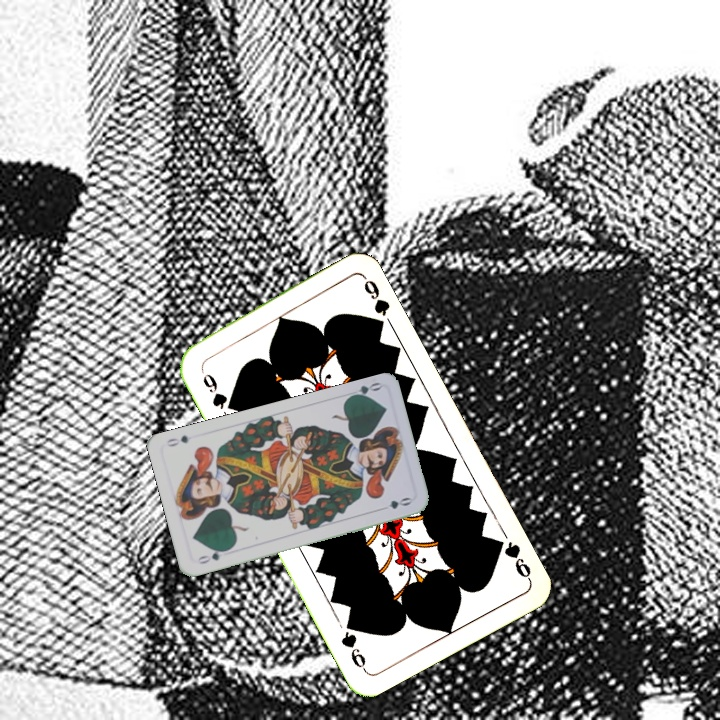G9: (489, 534, 534, 583), (196, 363, 237, 413)
GO: (344, 378, 383, 401), (193, 545, 231, 567)
